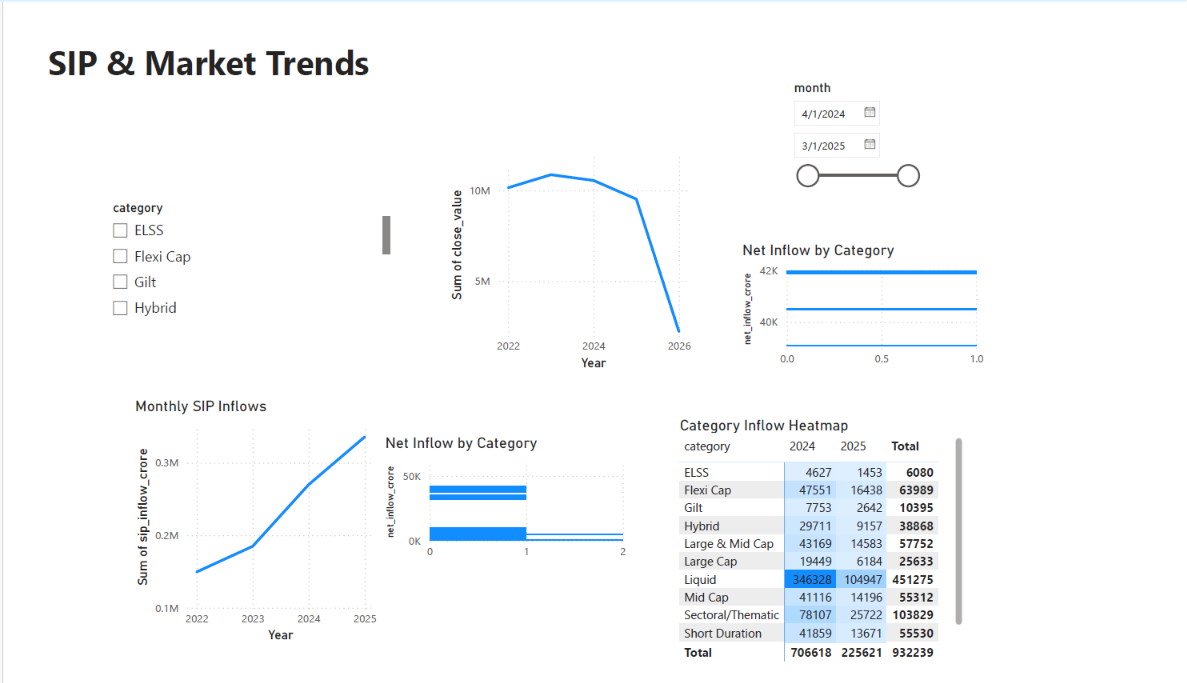

The page's visual inventory and layout, read from the dashboard file:
{"tool":"powerbi","page":{"name":"SIP & Market Trends","canvas":[1280,720],"ordinal":3},"visuals":[{"type":"lineChart","title":"Monthly SIP Inflows","fields":{"Category":["04_monthly_sip_inflows.month.Variation.Date Hierarchy.Year","04_monthly_sip_inflows.month.Variation.Date Hierarchy.Quarter","04_monthly_sip_inflows.month.Variation.Date Hierarchy.Month","04_monthly_sip_inflows.month.Variation.Date Hierarchy.Day"],"Y":["Sum(04_monthly_sip_inflows.sip_inflow_crore)"]},"box":[118.8,418.8,280,280],"z":0},{"type":"lineChart","title":"NIFTY 50 Trend","fields":{"Category":["10_benchmark_indices.date.Variation.Date Hierarchy.Year","10_benchmark_indices.date.Variation.Date Hierarchy.Quarter","10_benchmark_indices.date.Variation.Date Hierarchy.Month","10_benchmark_indices.date.Variation.Date Hierarchy.Day"],"Y":["Sum(10_benchmark_indices.close_value)"]},"box":[471.2,113.8,280,280],"z":1000},{"type":"clusteredBarChart","title":"Net Inflow by Category","fields":{"Y":["CountNonNull(05_category_inflows.category)"],"Category":["05_category_inflows.net_inflow_crore"]},"box":[398.8,460,280,150],"z":2000},{"type":"clusteredBarChart","title":"Net Inflow by Category","fields":{"Y":["CountNonNull(05_category_inflows.category)"],"Category":["05_category_inflows.net_inflow_crore"]},"box":[798.8,243.8,280,150],"z":3000},{"type":"pivotTable","title":"Category Inflow Heatmap","fields":{"Rows":["05_category_inflows.category"],"Columns":["05_category_inflows.month.Variation.Date Hierarchy.Year","05_category_inflows.month.Variation.Date Hierarchy.Quarter","05_category_inflows.month.Variation.Date Hierarchy.Month","05_category_inflows.month.Variation.Date Hierarchy.Day"],"Values":["Sum(05_category_inflows.net_inflow_crore)"]},"box":[728.8,440,327.5,280],"z":4000},{"type":"slicer","fields":{"Values":["05_category_inflows.category"]},"box":[86.2,193.8,327.5,150],"z":5000},{"type":"slicer","fields":{"Values":["05_category_inflows.month"]},"box":[848.8,58.8,162.5,150],"z":6000},{"type":"textbox","box":[21.2,12.5,580,150],"z":6001}]}

Visuals, with their boxes in screenshot pixels (x1, y1, x2, y2), scaled from the page's 1280x720 canvas onto the 1187x683 screenshot:
"Monthly SIP Inflows" lineChart: {"left": 110, "top": 397, "right": 370, "bottom": 663}
"NIFTY 50 Trend" lineChart: {"left": 437, "top": 108, "right": 697, "bottom": 374}
"Net Inflow by Category" clusteredBarChart: {"left": 370, "top": 436, "right": 629, "bottom": 579}
"Net Inflow by Category" clusteredBarChart: {"left": 741, "top": 231, "right": 1000, "bottom": 374}
"Category Inflow Heatmap" pivotTable: {"left": 676, "top": 417, "right": 980, "bottom": 682}
slicer - 05_category_inflows.category: {"left": 80, "top": 184, "right": 384, "bottom": 326}
slicer - 05_category_inflows.month: {"left": 787, "top": 56, "right": 938, "bottom": 198}
textbox: {"left": 20, "top": 12, "right": 558, "bottom": 154}
